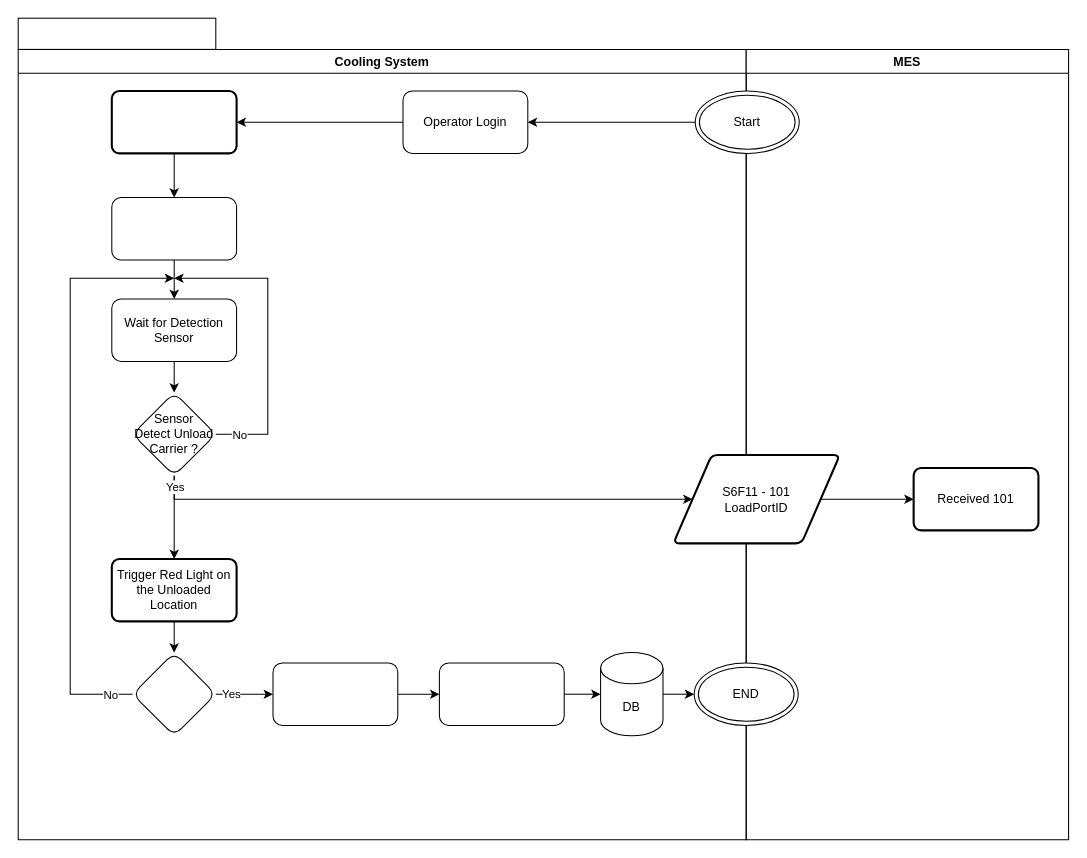
Some shapes in this 1087 by 858 pixel diagram are drawn without their labels. The box of each missing label's shape, as (x1, y1, x2, y2) in pixels:
Its Last Carrier ?: (132, 652, 216, 736)
Operator Select LotID where is ready to unload: (110, 89, 237, 154)
ST Timer Stop: (272, 662, 398, 725)
Trigger Blinking Green Light on the Unload Location: (111, 197, 237, 260)
Unload Carrier Process: (17, 17, 216, 49)
Update Actual ST End: (438, 662, 564, 725)
